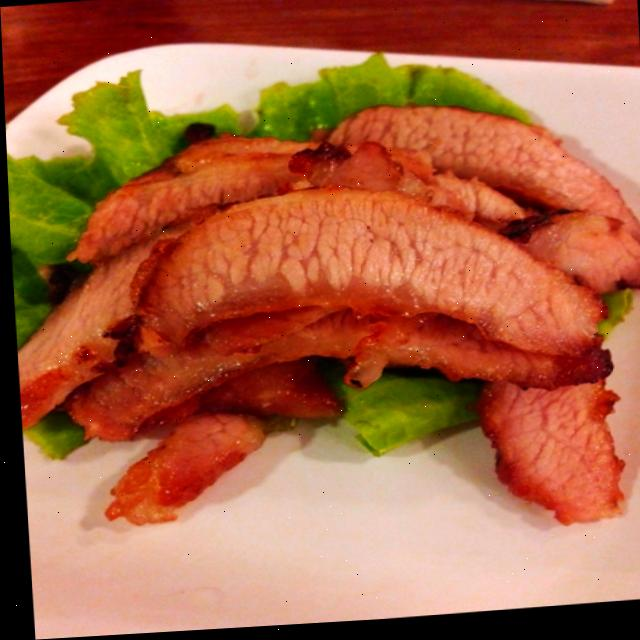猪肉菜式: (12, 37, 639, 577)
